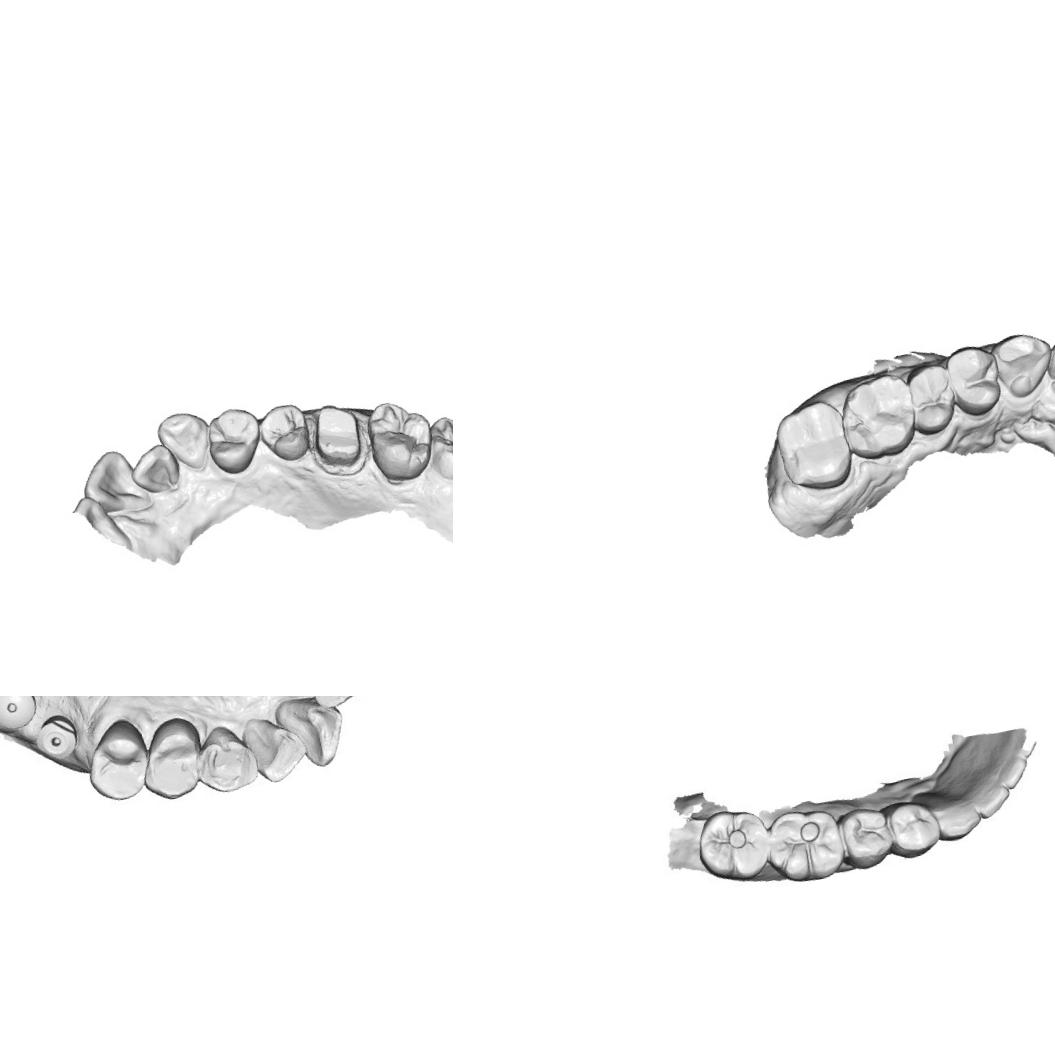canine: (987, 326, 1055, 403), (152, 404, 216, 477), (927, 793, 983, 846)
crown: (303, 394, 371, 480)
implant: (30, 706, 81, 761), (0, 696, 44, 736)
incisor: (76, 444, 152, 520), (276, 696, 348, 765), (244, 717, 304, 782), (125, 439, 184, 498), (982, 746, 1032, 792), (965, 780, 1011, 820), (1039, 331, 1055, 400)
molar: (767, 393, 859, 498), (833, 365, 925, 467), (359, 392, 440, 489), (763, 802, 846, 883), (692, 804, 774, 881), (423, 406, 453, 484)
premolar: (76, 712, 154, 805), (940, 337, 1008, 422), (138, 720, 208, 800), (896, 356, 963, 438), (200, 402, 268, 478), (194, 730, 258, 794), (254, 399, 313, 466), (840, 808, 900, 870), (888, 797, 944, 855)
